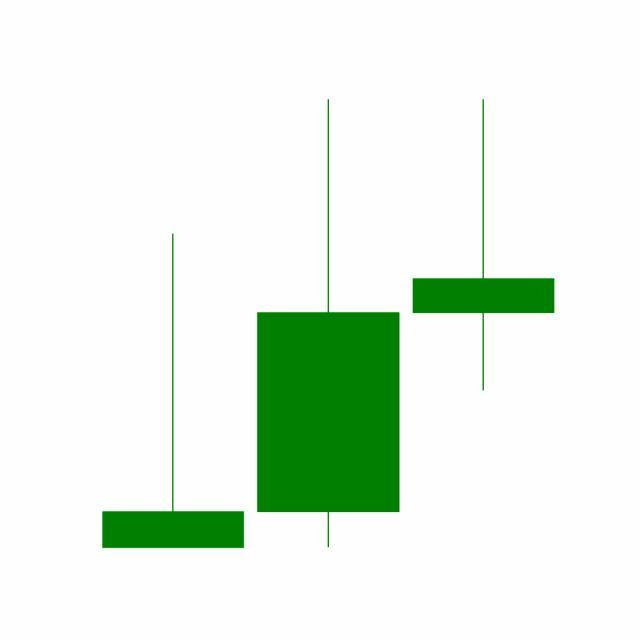Spinning Top: (406, 96, 562, 395)
